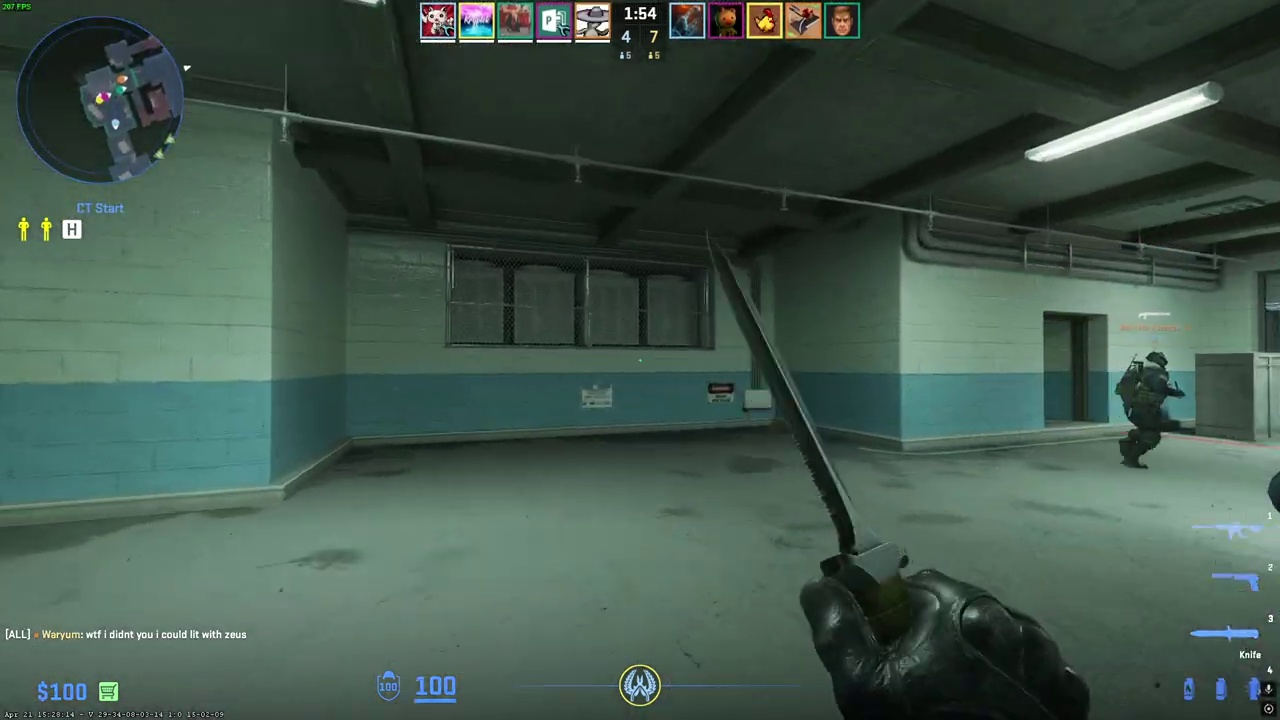CT: (1117, 350, 1179, 470)
